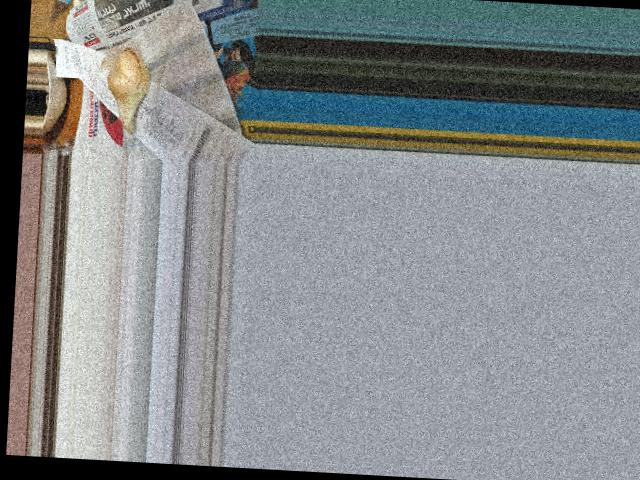onion: (107, 45, 149, 124)
